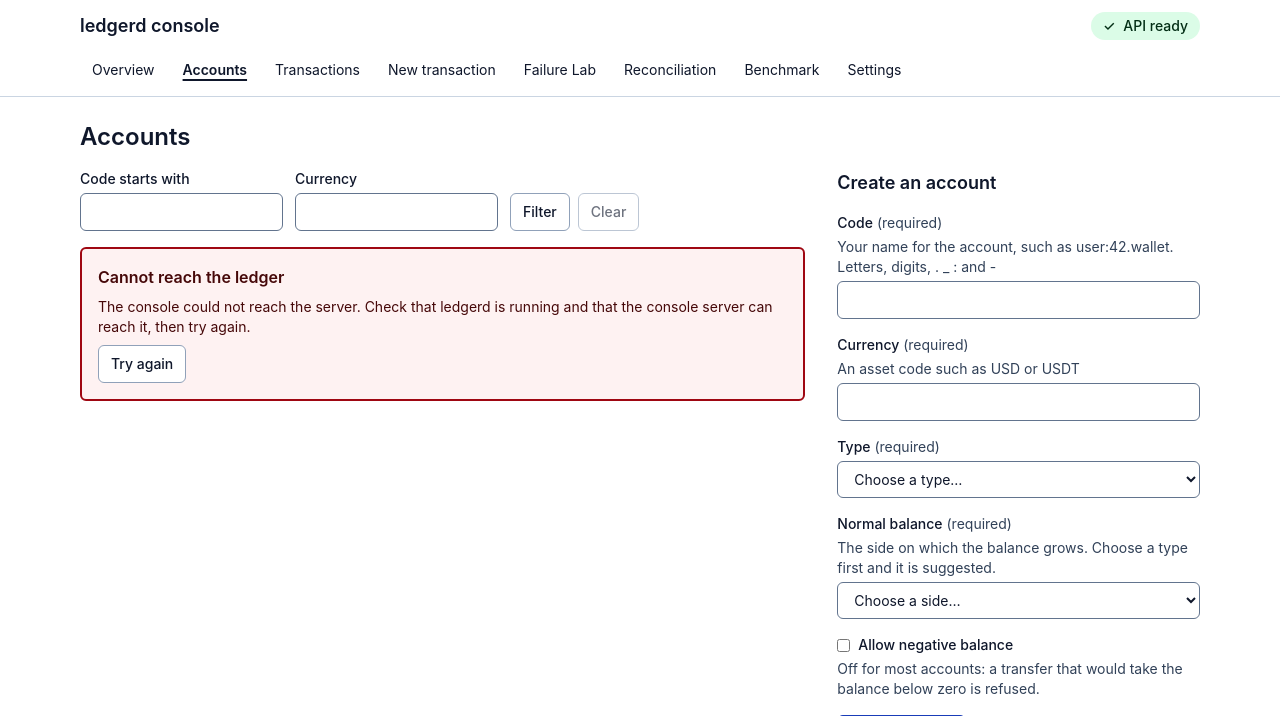
Test: the account list › shows an explanation and a retry when the list cannot be loaded, not an empty list
This screenshot has width=1280, height=716.
expect the heading "Accounts" is shown: met, box [80,121,190,153]
expect the text "Cannot reach the ledger" is shown: met, box [98,267,284,287]
Click the button "Try again" at coordinates (142, 364), box [98,345,186,383]
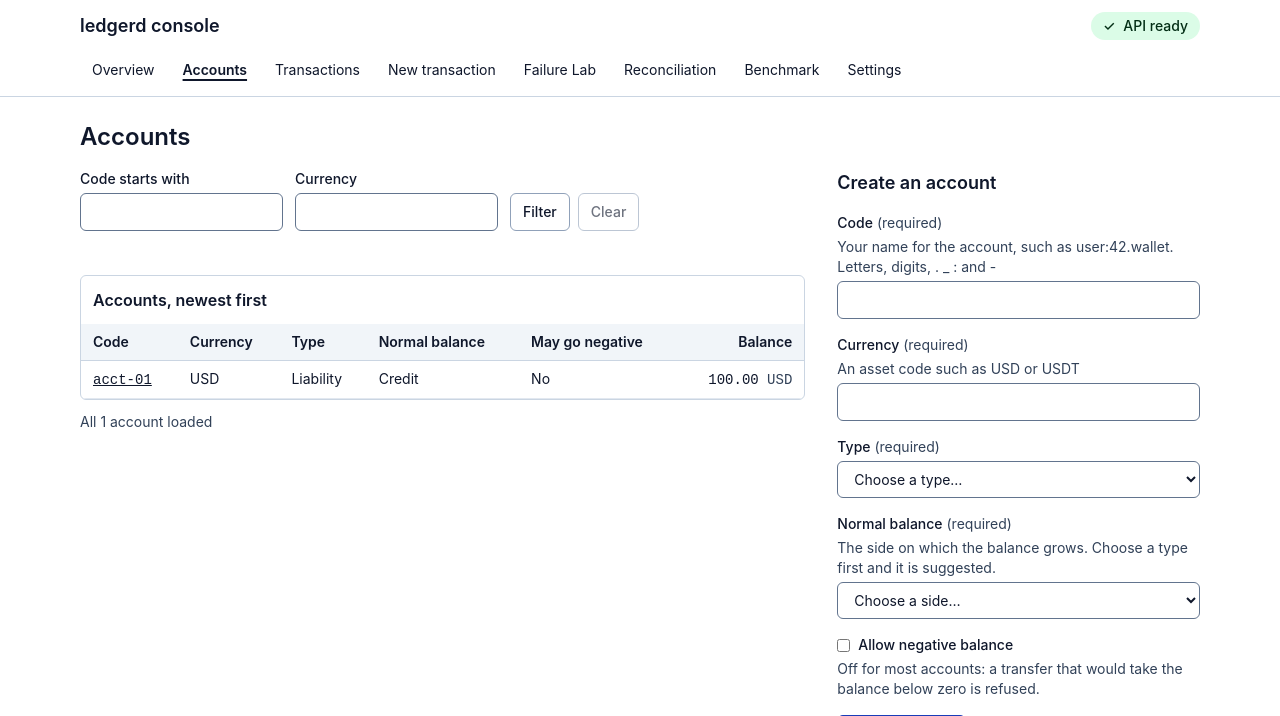
expect the link "acct-01" is shown: met, box [93,372,152,388]
